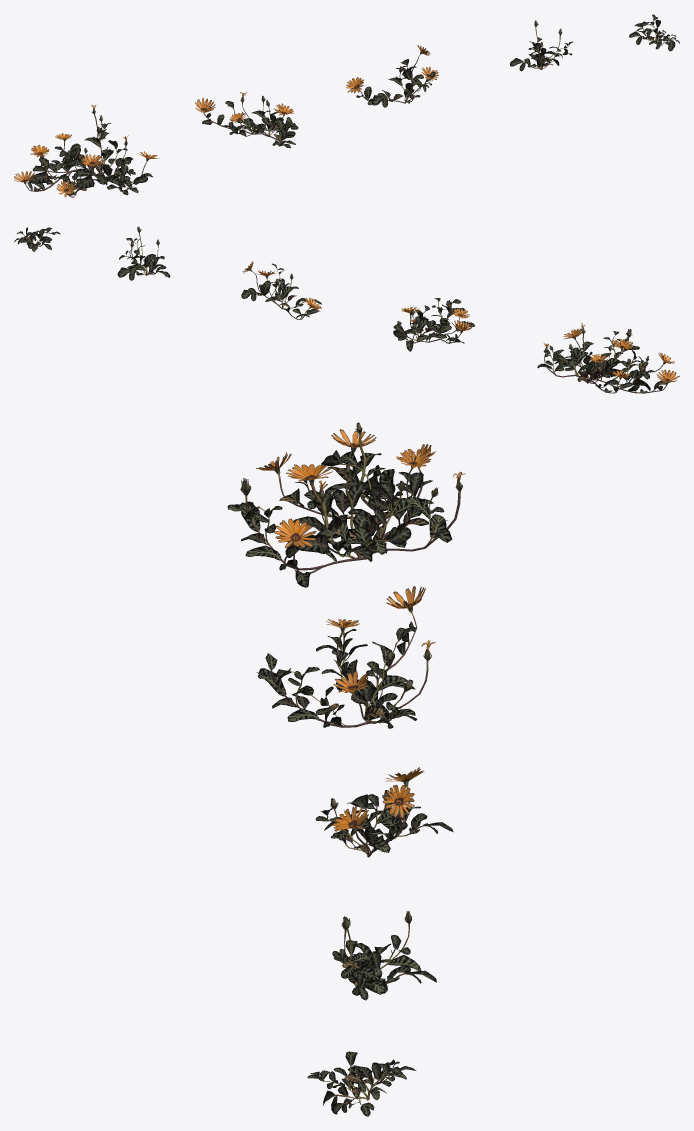
File: fl_white.glb
3 views of the same model, one above another, from view 1: azimuth 30°, elevation 25°; view 2: azimuth 150°, elevation 25°; view 3: azimuth 270°, elevation 25° (orthographic). The views are drawn at different scales.
Parts seen in each view (by area): view 1: flower_ursinia_a_LOD0, flower_ursinia_b_LOD0, flower_ursinia_c_LOD0, flower_ursinia_d_LOD0, flower_ursinia_e_LOD0; view 2: flower_ursinia_a_LOD0, flower_ursinia_b_LOD0, flower_ursinia_c_LOD0, flower_ursinia_d_LOD0, flower_ursinia_e_LOD0; view 3: flower_ursinia_a_LOD0, flower_ursinia_b_LOD0, flower_ursinia_c_LOD0, flower_ursinia_d_LOD0, flower_ursinia_e_LOD0.
Boxes of the visible parts, box(x1,y1,x2,y2) form: flower_ursinia_a_LOD0: box(14, 104, 159, 197); flower_ursinia_b_LOD0: box(195, 92, 298, 148); flower_ursinia_c_LOD0: box(346, 45, 438, 107); flower_ursinia_d_LOD0: box(510, 20, 573, 71); flower_ursinia_e_LOD0: box(629, 14, 679, 51); flower_ursinia_a_LOD0: box(537, 323, 679, 393); flower_ursinia_b_LOD0: box(393, 298, 474, 351); flower_ursinia_c_LOD0: box(241, 261, 321, 319); flower_ursinia_d_LOD0: box(117, 226, 170, 280); flower_ursinia_e_LOD0: box(14, 227, 60, 251); flower_ursinia_a_LOD0: box(227, 422, 465, 587); flower_ursinia_b_LOD0: box(256, 586, 435, 728); flower_ursinia_c_LOD0: box(315, 767, 453, 857); flower_ursinia_d_LOD0: box(332, 911, 436, 1000); flower_ursinia_e_LOD0: box(307, 1051, 416, 1116).
Bounding box in the file's own units: 2.19 × 0.1718 × 0.3433.
Materials: 1 (1 with a texture image).
